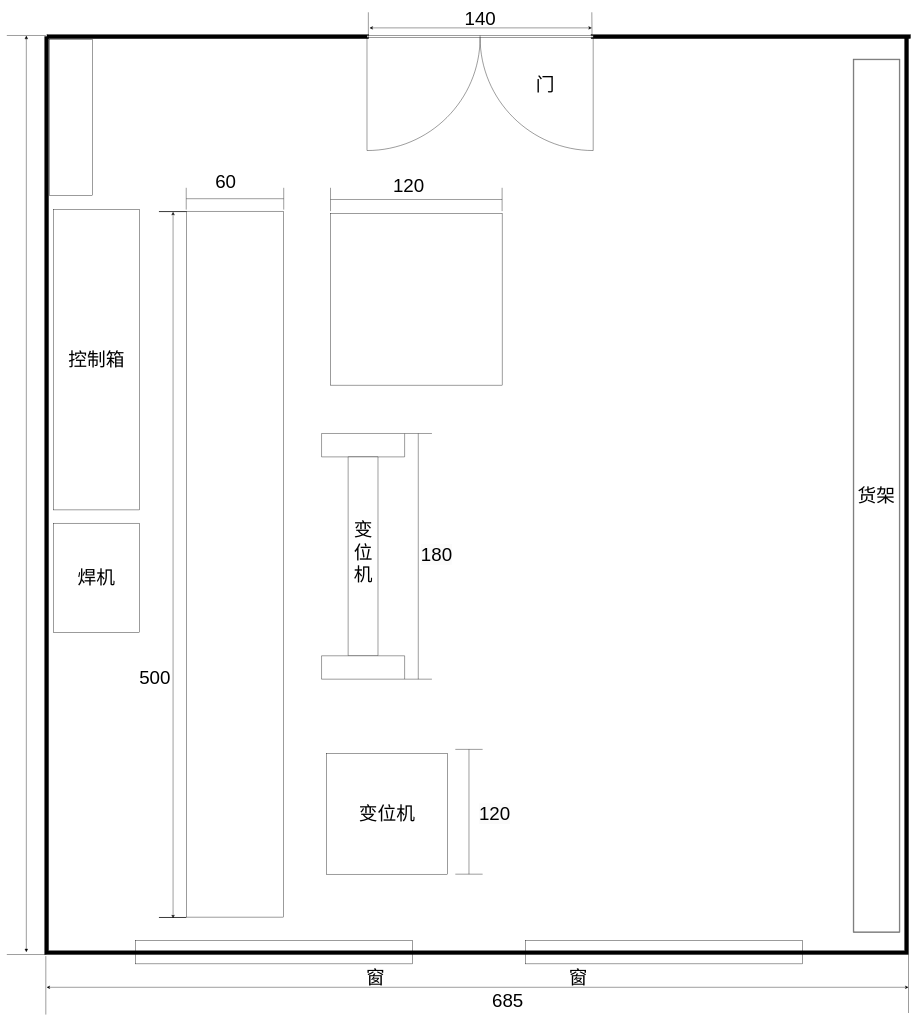
This 919x1022 diagram has some shape labels left out. The box of each missing label's shape, as (x1, y1, x2, y2) in pixels:
地轨: (186, 211, 284, 917)
焊接台: (330, 213, 502, 385)
电控柜: (49, 39, 93, 196)
